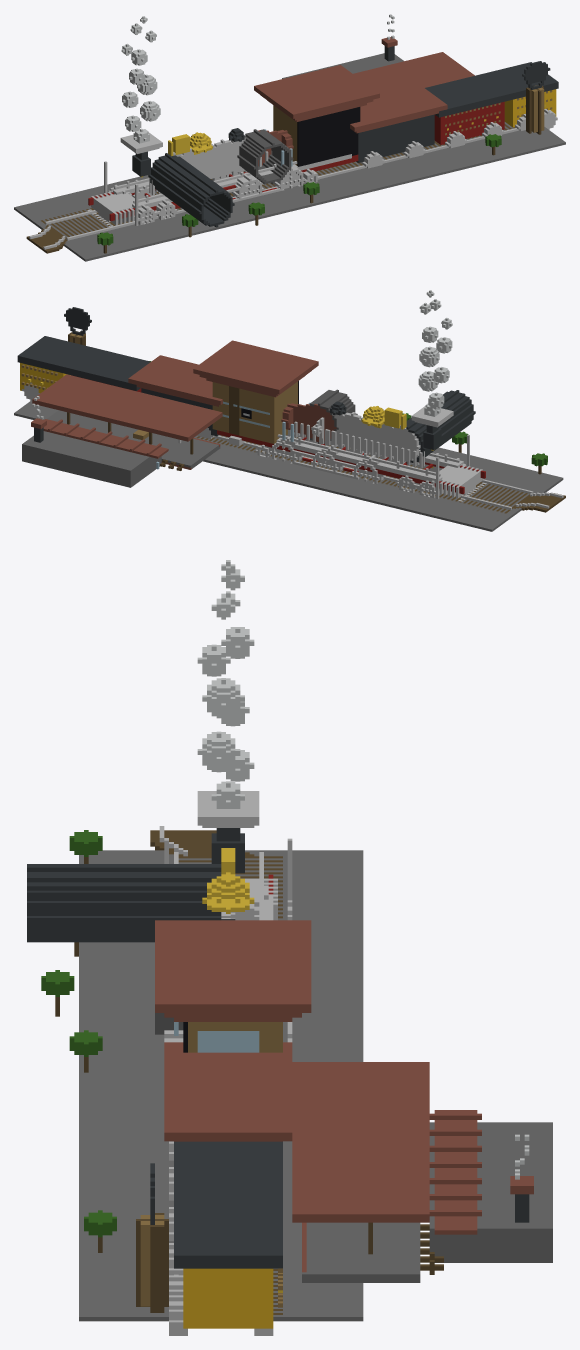
The picture shows the model from 3 angles, top to bottom: view 1: azimuth 30°, elevation 25°; view 2: azimuth 150°, elevation 25°; view 3: azimuth 270°, elevation 25°; orthographic projection. The views are drawn at different scales.
Size of the model in its own units: 251 by 93 by 111.
